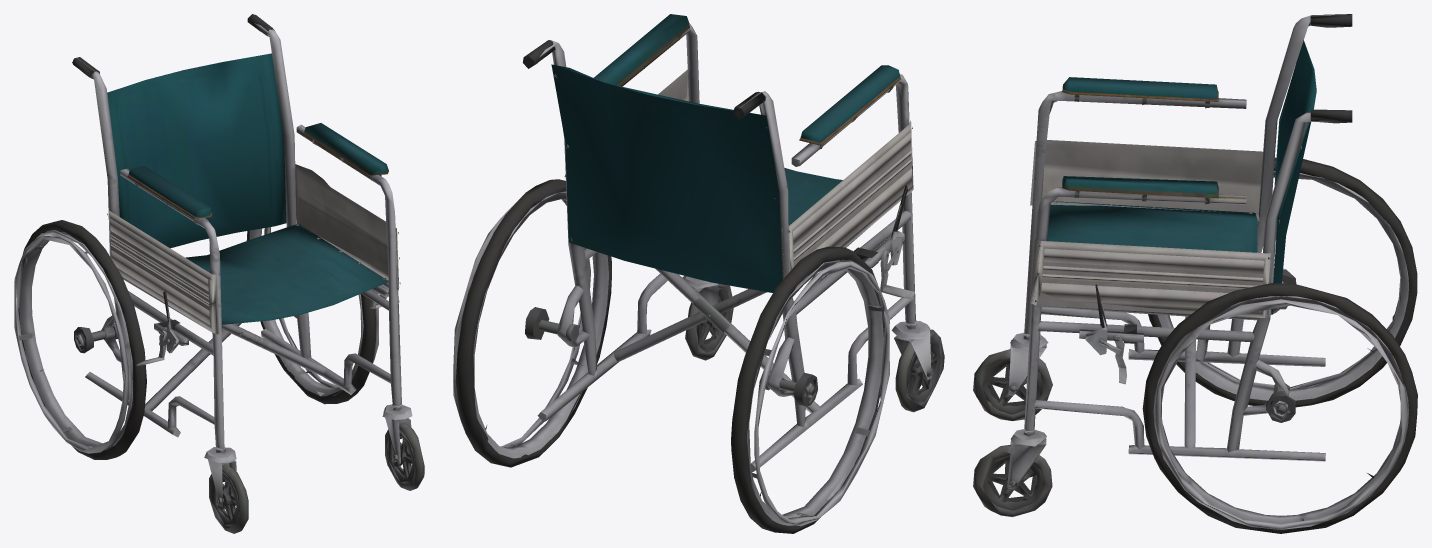
File: wheelchair_01.glb
3 views of the same model, side by side, from view 1: azimuth 30°, elevation 25°; view 2: azimuth 150°, elevation 25°; view 3: azimuth 270°, elevation 25° (orthographic). The views are drawn at different scales.
Parts seen in each view (by area): view 1: wheelchair_01; view 2: wheelchair_01; view 3: wheelchair_01.
Part boxes in pixels (x1,y1,x2,y2): wheelchair_01: (14, 14, 424, 533); wheelchair_01: (453, 14, 944, 533); wheelchair_01: (973, 14, 1417, 533).
Size of the model in its own units: 0.8241 by 1.1 by 1.09.
Materials: 1 (1 with a texture image).
